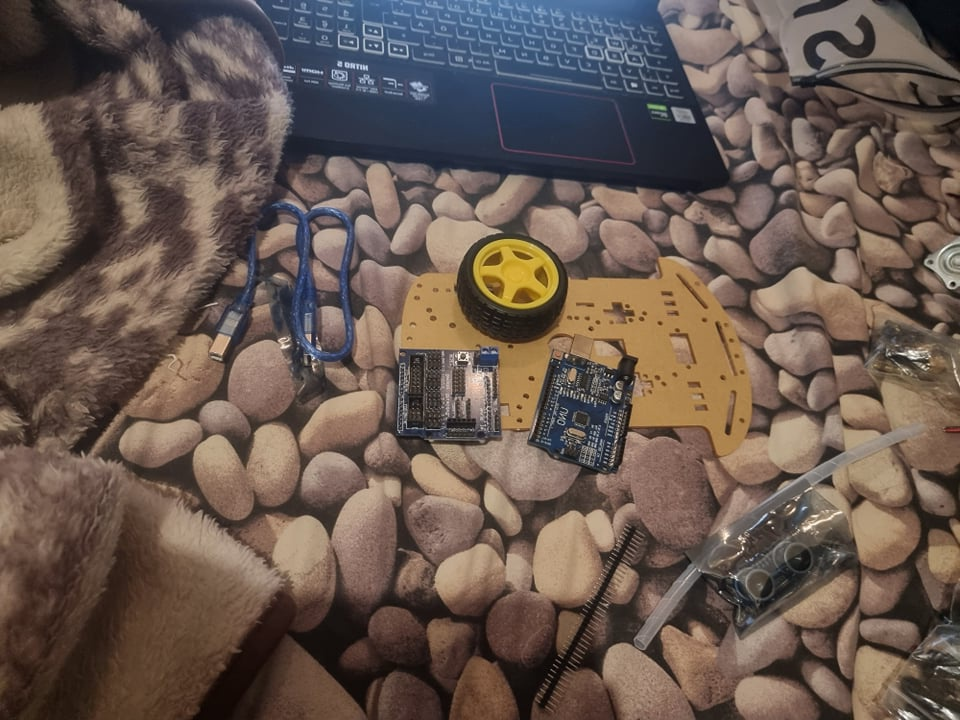5V EXPANSION: (527, 354, 641, 475), (396, 343, 501, 443)
SENSOR: (737, 536, 815, 609)
